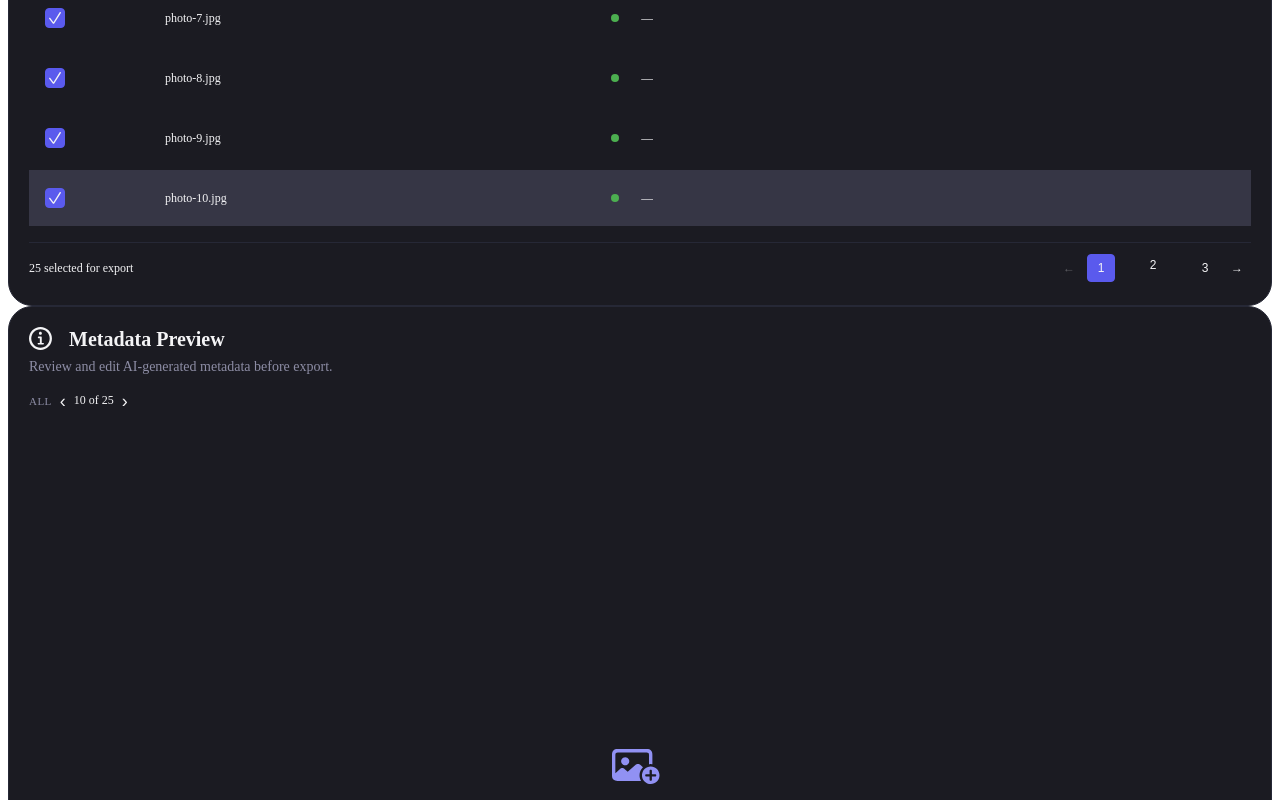
Test case: стрелка превью переводит таблицу на страницу выбранного фото
(page scrolled)
Click the button "›": [125, 401] box [118,392,132,410]
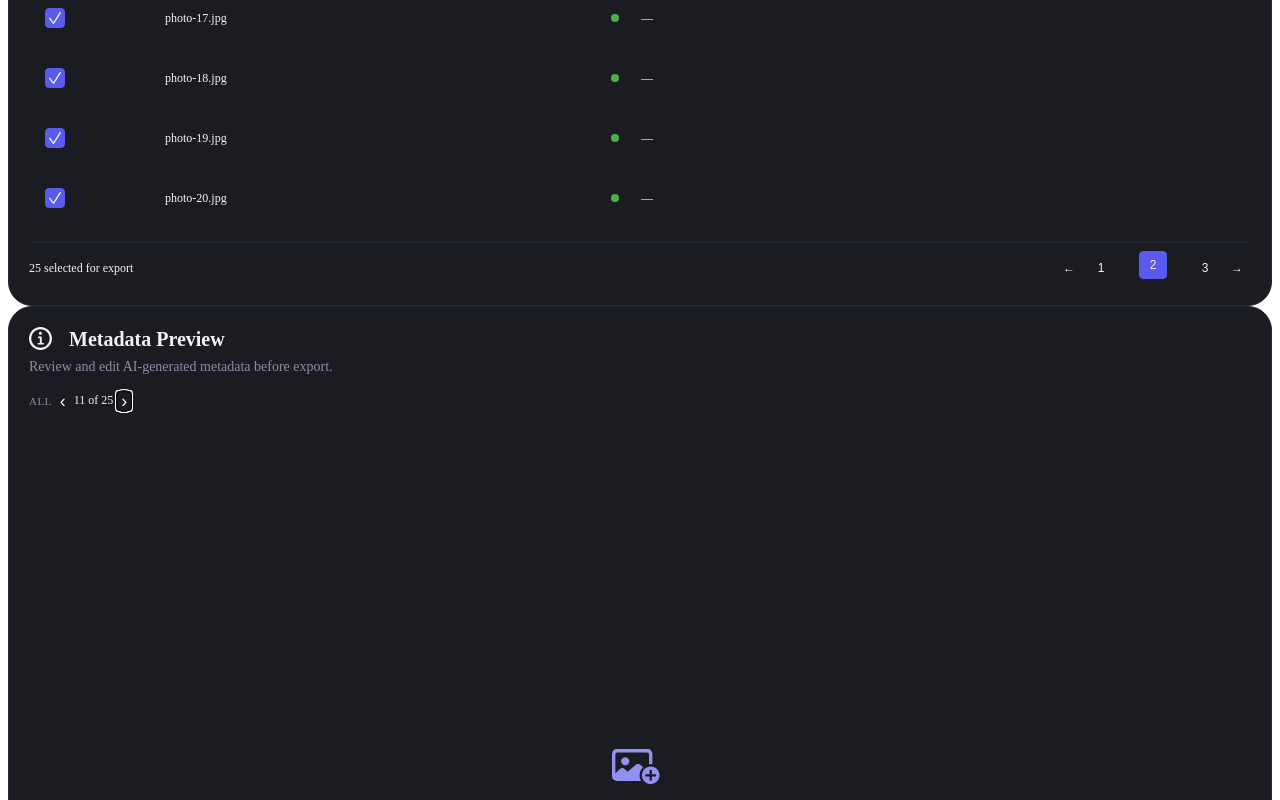
Expected: the text "11 of 25" is shown, [74,394,113,408]
